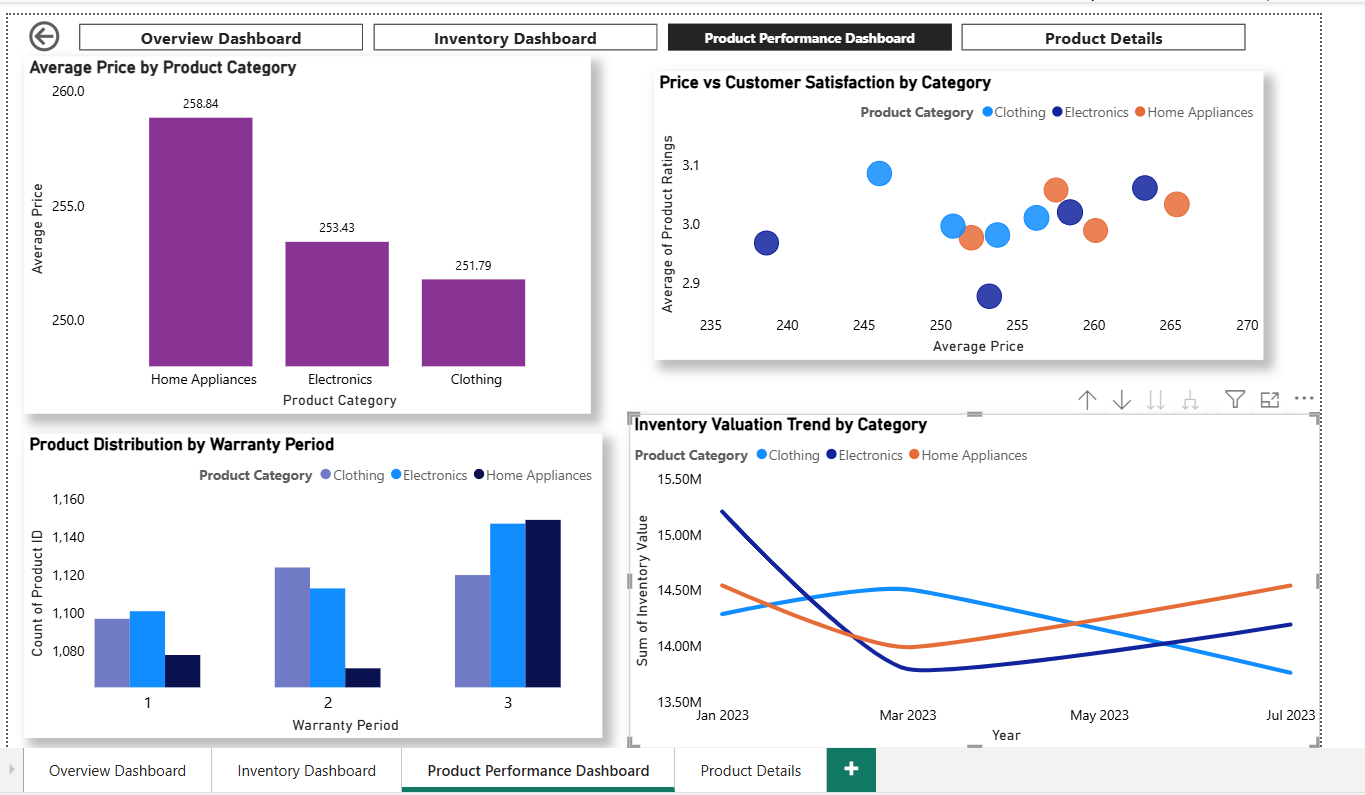

Layout of this report page (visuals, bound fields, positions):
{"tool":"powerbi","page":{"name":"Product Performance Dashboard","canvas":[1280,720],"ordinal":2},"visuals":[{"type":"pageNavigator","box":[69.6,8.7,1140.6,26.1],"z":0},{"type":"actionButton","box":[15.9,1.4,39.1,39.1],"z":1000},{"type":"clusteredColumnChart","fields":{"Y":["products.Average Price"],"Category":["products.Product Category"]},"box":[15.9,40.4,552.7,348.5],"z":2000},{"type":"clusteredColumnChart","title":"Product Distribution by Warranty Period","fields":{"Series":["products.Product Category"],"Category":["products.Warranty Period"],"Y":["CountNonNull(products.Product ID)"]},"box":[15.9,408.4,563.7,297.1],"z":3000},{"type":"scatterChart","title":"Price vs Customer Satisfaction by Category","fields":{"X":["products.Average Price"],"Y":["Avg(products.Product Ratings)"],"Size":["Sum(products.Stock Quantity)"],"Series":["products.Product Category"],"Category":["products.Product Name"]},"box":[631,55,594.3,281.3],"z":4000},{"type":"lineChart","title":"Inventory Valuation Trend by Category","fields":{"Category":["products.Manufacturing Date.Variation.Date Hierarchy.Year","products.Manufacturing Date.Variation.Date Hierarchy.Month"],"Y":["Sum(products.Inventory Value)"],"Series":["products.Product Category"]},"box":[606.5,379.1,673.8,326.5],"z":5000}]}

Visuals, with their boxes on the page's 1280x720 design canvas (x1, y1, x2, y2). These are canvas units, not pixel positions in the 1365x795 screenshot, which may show the page scaled, cropped or inside an application window:
pageNavigator: (x1=70, y1=9, x2=1210, y2=35)
actionButton: (x1=16, y1=1, x2=55, y2=40)
clusteredColumnChart - products.Average Price x products.Product Category: (x1=16, y1=40, x2=569, y2=389)
"Product Distribution by Warranty Period" clusteredColumnChart: (x1=16, y1=408, x2=580, y2=706)
"Price vs Customer Satisfaction by Category" scatterChart: (x1=631, y1=55, x2=1225, y2=336)
"Inventory Valuation Trend by Category" lineChart: (x1=606, y1=379, x2=1280, y2=706)
